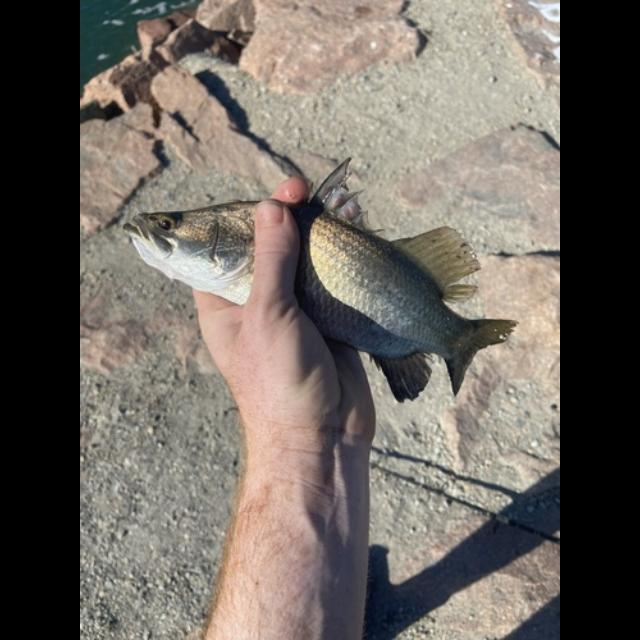Seabass: (124, 158, 518, 402)
